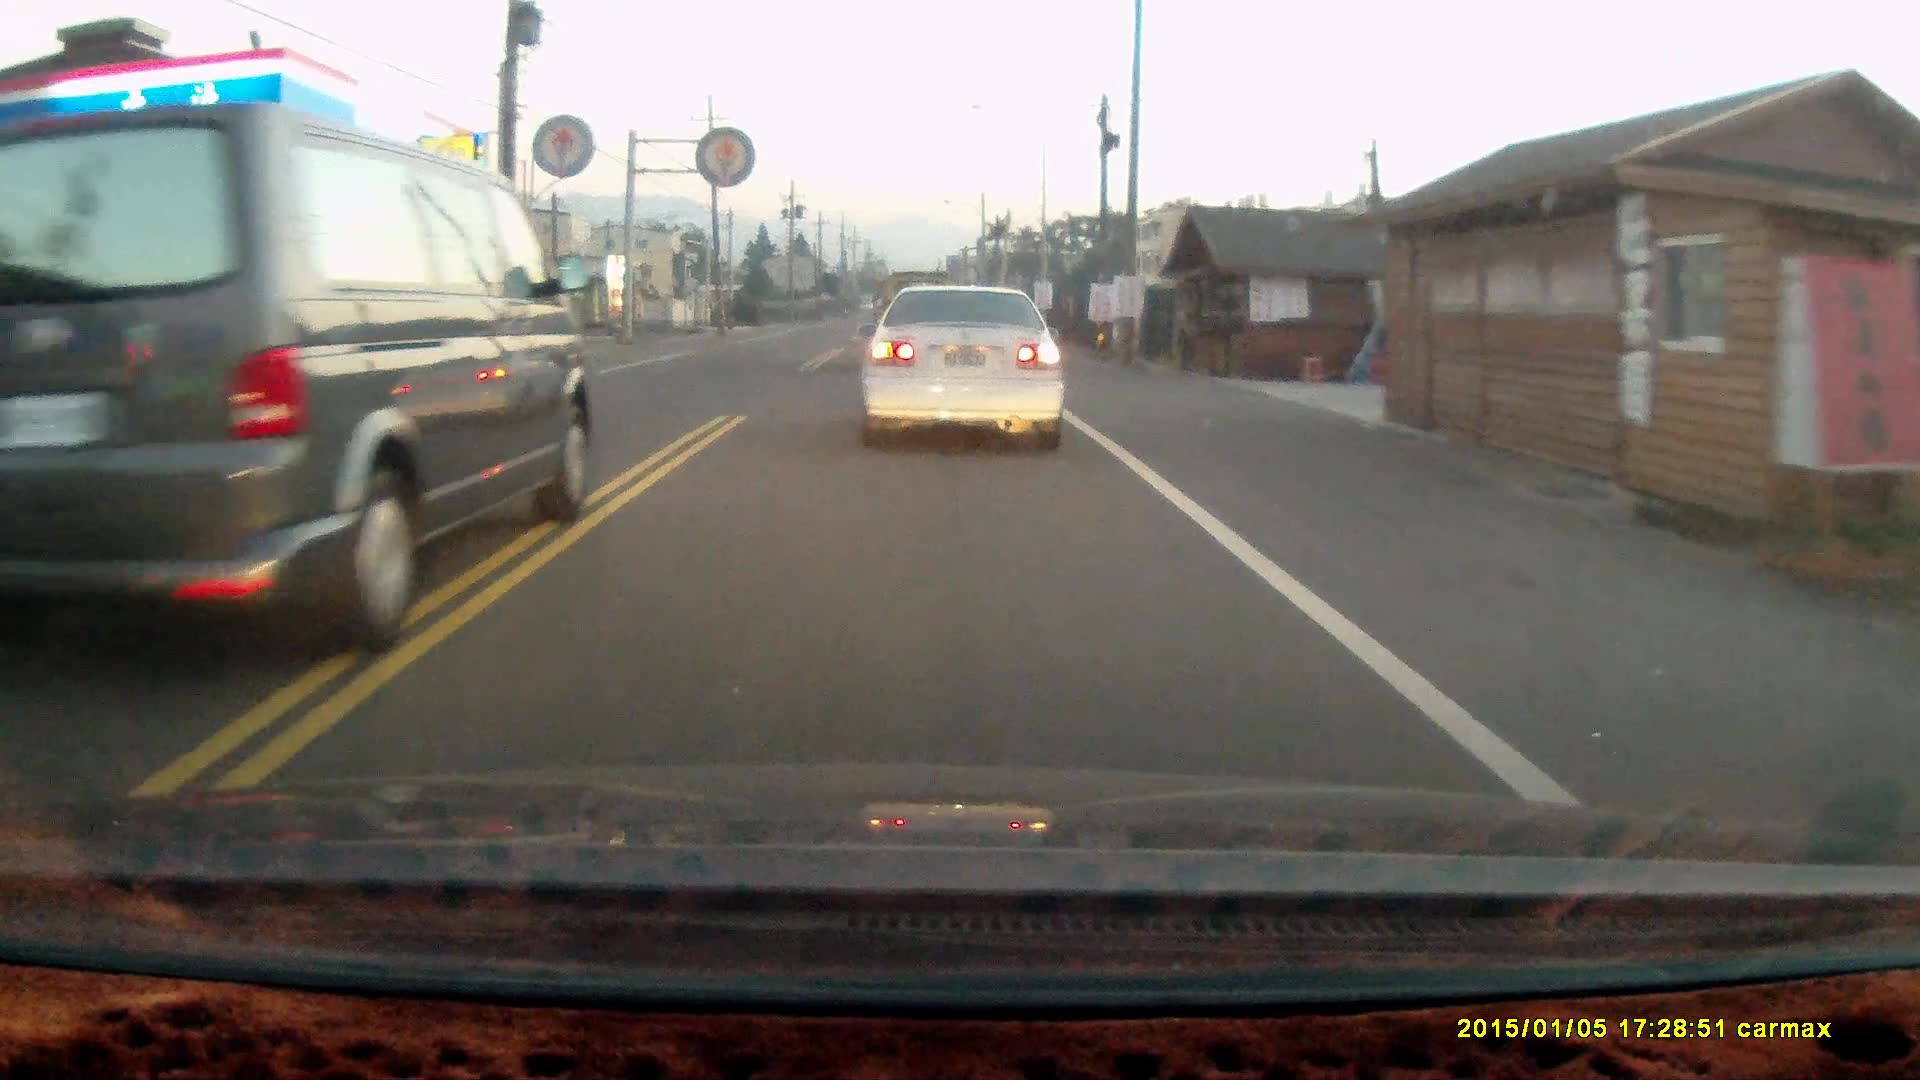vehicle: (1, 108, 593, 650), (862, 280, 1069, 455)
